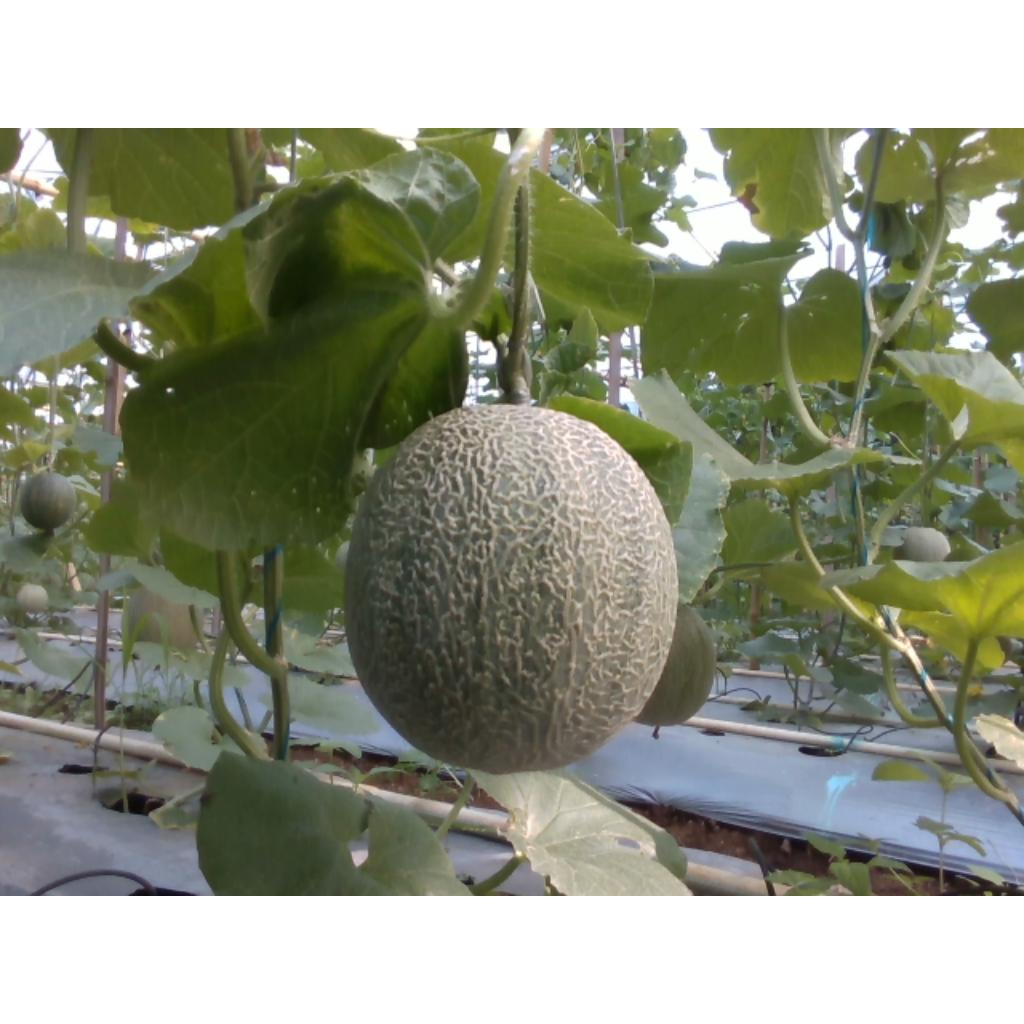melon: (347, 405, 680, 774)
